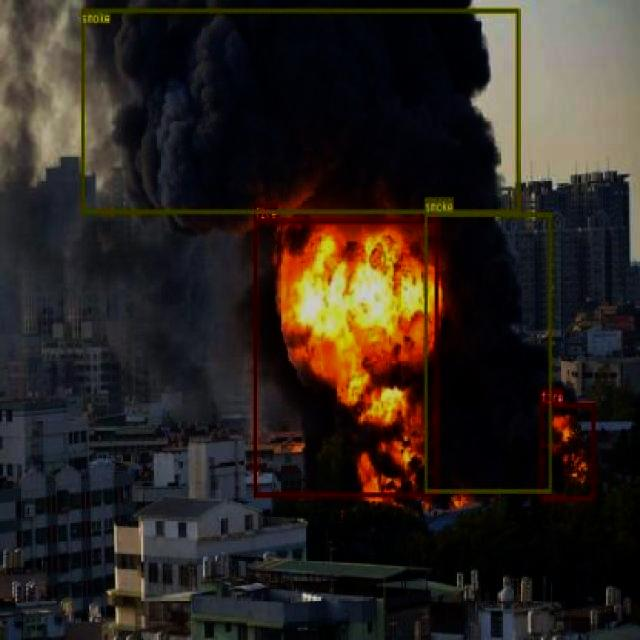fire: (253, 218, 438, 496), (539, 402, 595, 500)
smoke: (80, 8, 520, 212), (424, 211, 552, 492)
